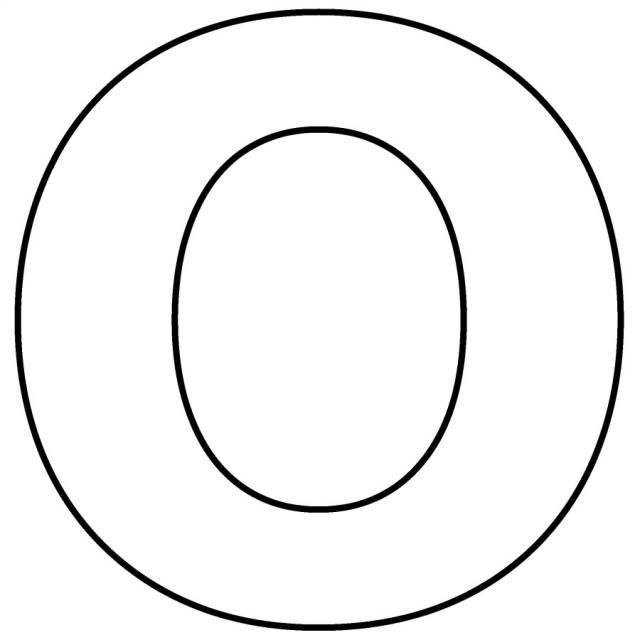O: (3, 3, 638, 638)
